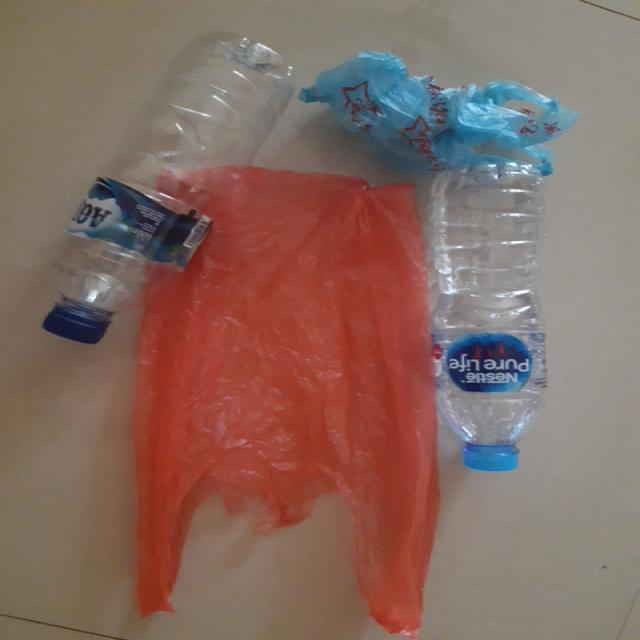Single-layer Plastic: (135, 168, 439, 632), (300, 51, 579, 175)
